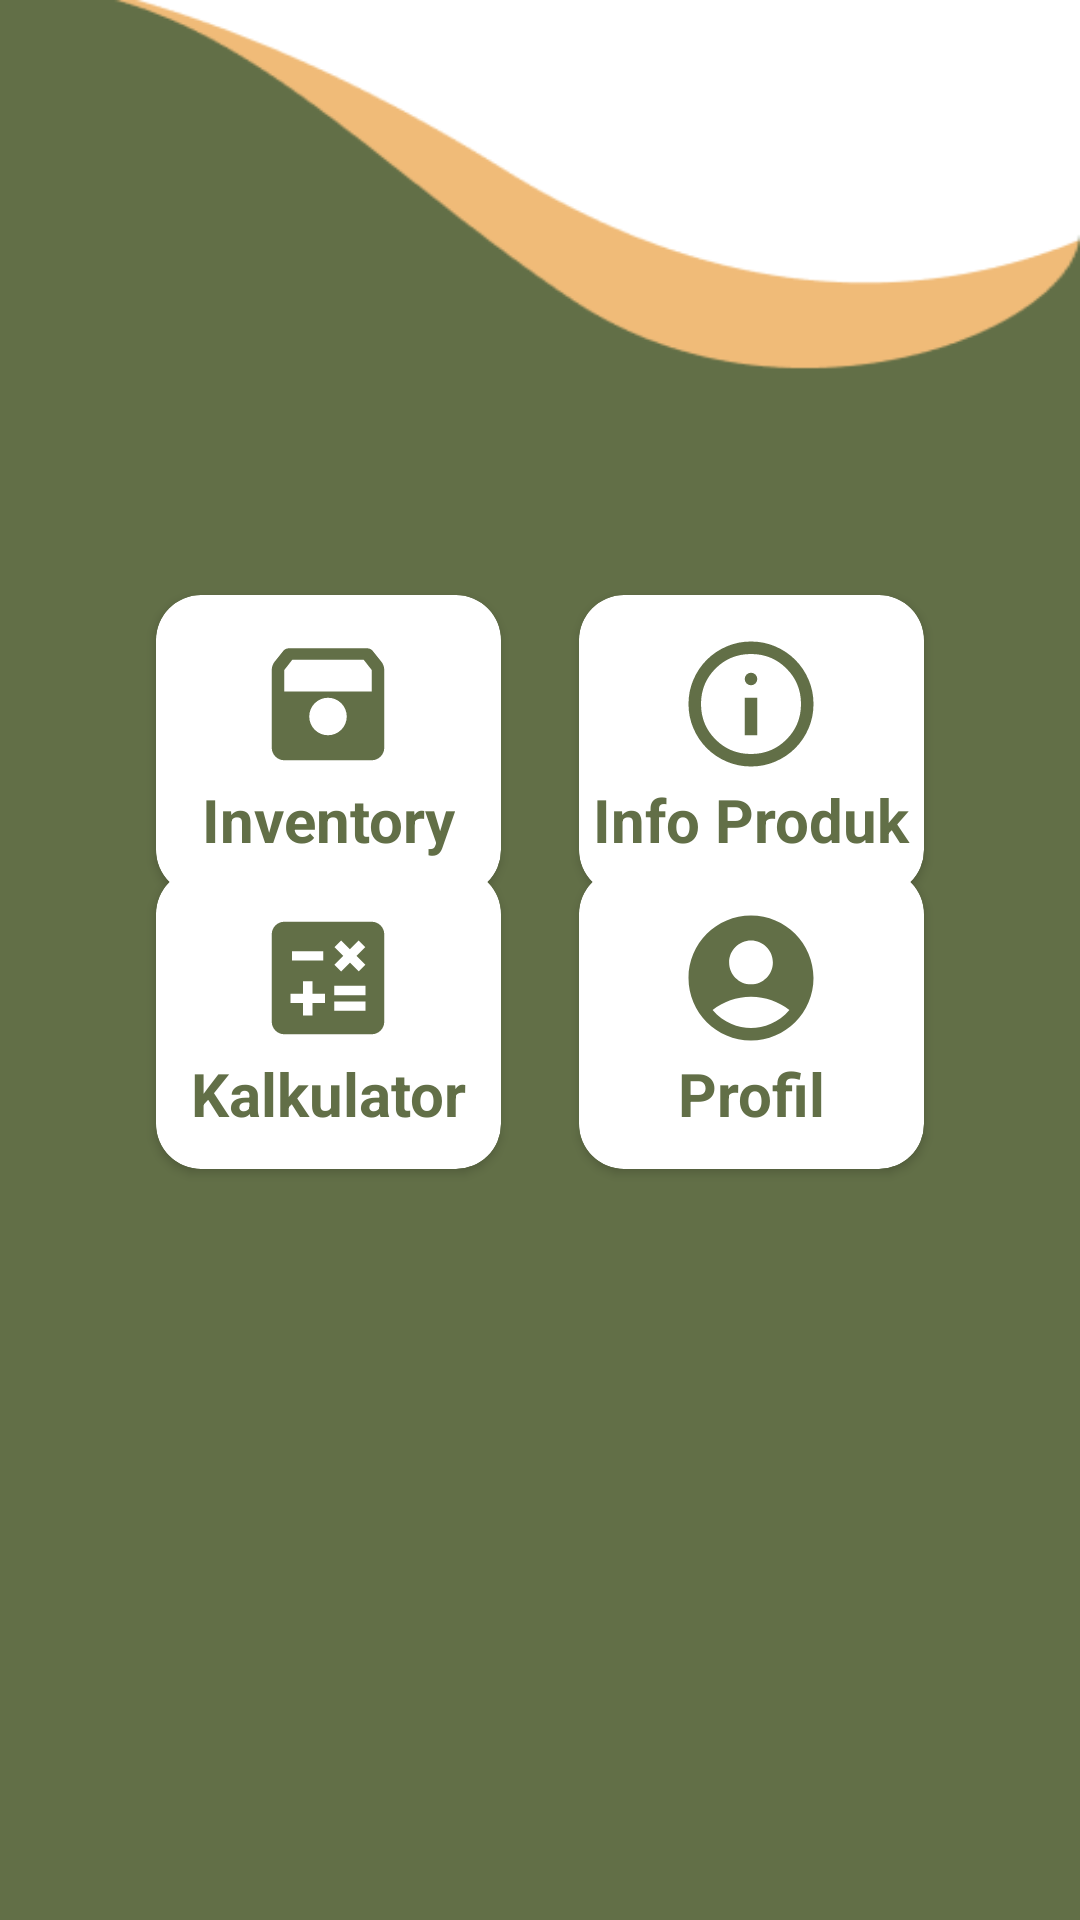

Icons on this 1080 x 1920 Android screen, each with the point to tap as point (x, y):
account circle: point (751, 978)
